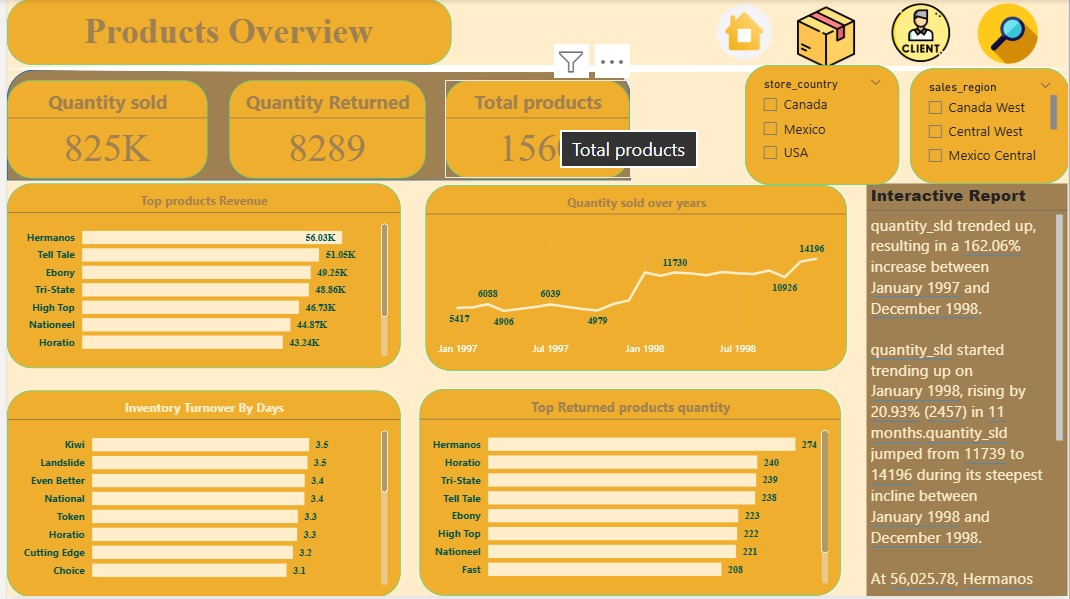

Layout of this report page (visuals, bound fields, positions):
{"tool":"powerbi","page":{"name":"products","canvas":[1280,720],"ordinal":3},"visuals":[{"type":"textbox","box":[0,0,536.3,79.3],"z":0},{"type":"shape","box":[0,85,752.5,133.9],"z":1000},{"type":"card","title":"Quantity sold","fields":{"Values":["Measure.quantity_sld"]},"box":[0,97.2,241.9,118.6],"z":2000},{"type":"shape","box":[0,79.3,1279.4,8.6],"z":3000},{"type":"card","title":"Quantity Returned","fields":{"Values":["Measure.quantity_retu"]},"box":[268,97.2,237.2,118.6],"z":4000},{"type":"card","title":"Total products","fields":{"Values":["Measure.Totalproducts"]},"box":[528.9,97.2,223,118.6],"z":5000},{"type":"clusteredBarChart","title":"Inventory Turnover By Days","fields":{"Y":["Measure.Inventory_Turnover"],"Category":["Products.product_brand"]},"box":[0,472,474.4,249],"z":6000},{"type":"clusteredBarChart","title":"Top products Revenue","fields":{"Y":["Measure.Total_Sales"],"Category":["Products.product_brand"]},"box":[0,223,474.4,223],"z":7000},{"type":"image","box":[941.5,3.8,90.6,84.9],"z":8000},{"type":"image","box":[1047.2,0,109.4,81.1],"z":9000},{"type":"image","box":[837.7,0,103.8,79.2],"z":10000},{"type":"clusteredBarChart","title":"Top Returned products quantity","fields":{"Category":["Products.product_brand"],"Y":["Measure.quantity_retu"]},"box":[497.4,470.3,508.3,249.6],"z":11000},{"type":"lineChart","title":"Quantity sold over years","fields":{"Category":["Calendar.Date.Variation.Date Hierarchy.Year","Calendar.Date.Variation.Date Hierarchy.Month"],"Y":["Measure.quantity_sld"]},"box":[504.7,224.3,508.3,224.3],"z":12000},{"type":"textbox","title":"Interactive Report","box":[1036.5,223,241.9,498.1],"z":13000},{"type":"slicer","title":"Total products","fields":{"Values":["Stores.store_country"]},"box":[889.9,79.6,186.3,144.7],"z":14000},{"type":"slicer","title":"Total products","fields":{"Values":["Region.sales_region"]},"box":[1088.9,83.2,191.7,139.3],"z":15000},{"type":"image","box":[1156.6,0,101.9,83],"z":16000}]}

Visuals, with their boxes in screenshot pixels (x1, y1, x2, y2), scaled from the page's 1280x720 canvas onto the 1070x599 screenshot:
textbox: 0/0/448/66
shape: 0/71/629/182
"Quantity sold" card: 0/81/202/180
shape: 0/66/1069/73
"Quantity Returned" card: 224/81/422/180
"Total products" card: 442/81/629/180
"Inventory Turnover By Days" clusteredBarChart: 0/393/397/598
"Top products Revenue" clusteredBarChart: 0/186/397/371
image: 787/3/863/74
image: 875/0/967/67
image: 700/0/787/66
"Top Returned products quantity" clusteredBarChart: 416/391/841/598
"Quantity sold over years" lineChart: 422/187/847/373
"Interactive Report" textbox: 866/186/1069/598
"Total products" slicer: 744/66/900/187
"Total products" slicer: 910/69/1069/185
image: 967/0/1052/69
